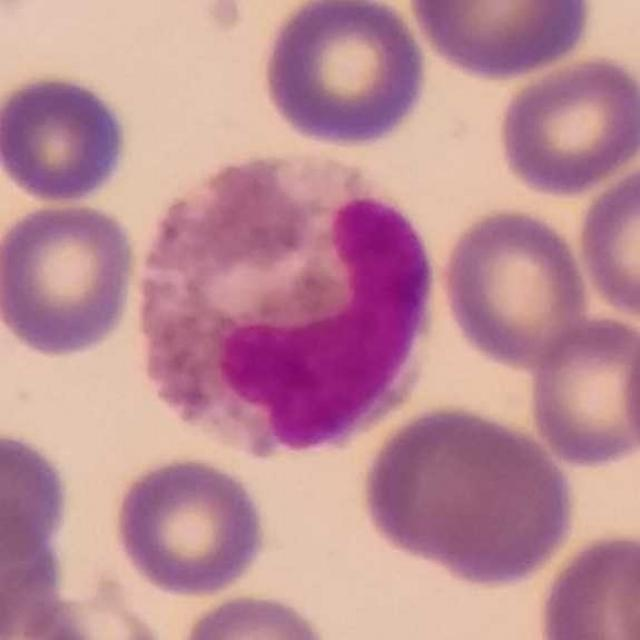eosino: (140, 149, 438, 457)
